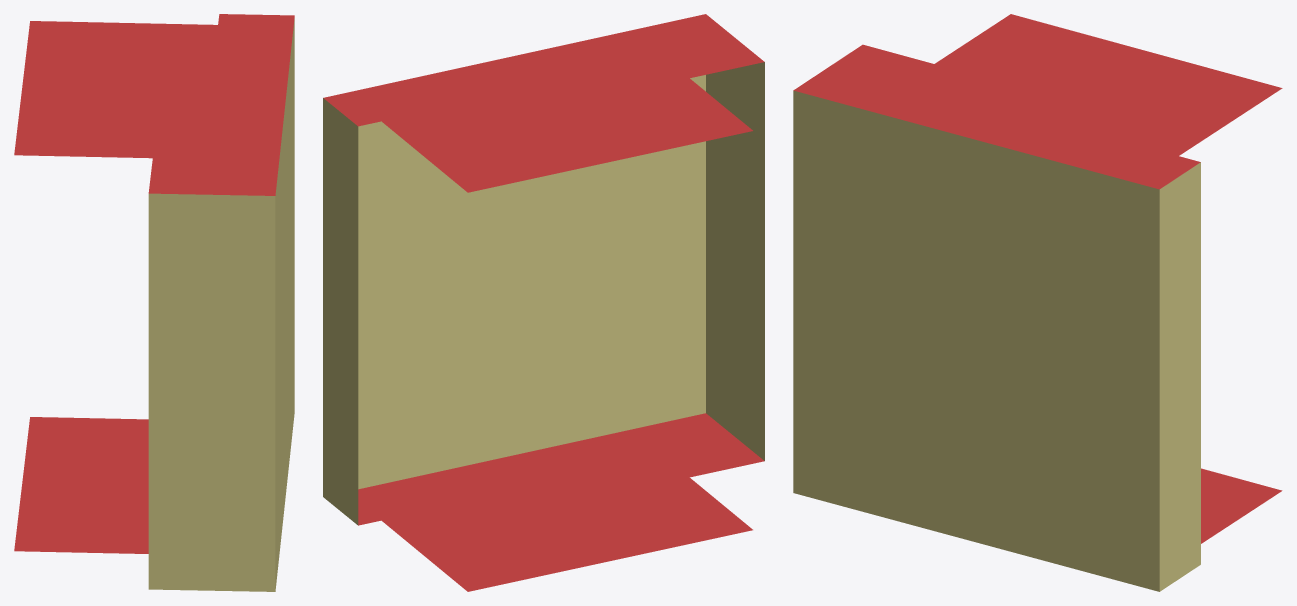
3 renders of one model, left to right at view 1: azimuth 30°, elevation 25°; view 2: azimuth 150°, elevation 25°; view 3: azimuth 270°, elevation 25°, orthographic.
Size of the model in its own units: 6.1 by 7.19 by 6.52.
